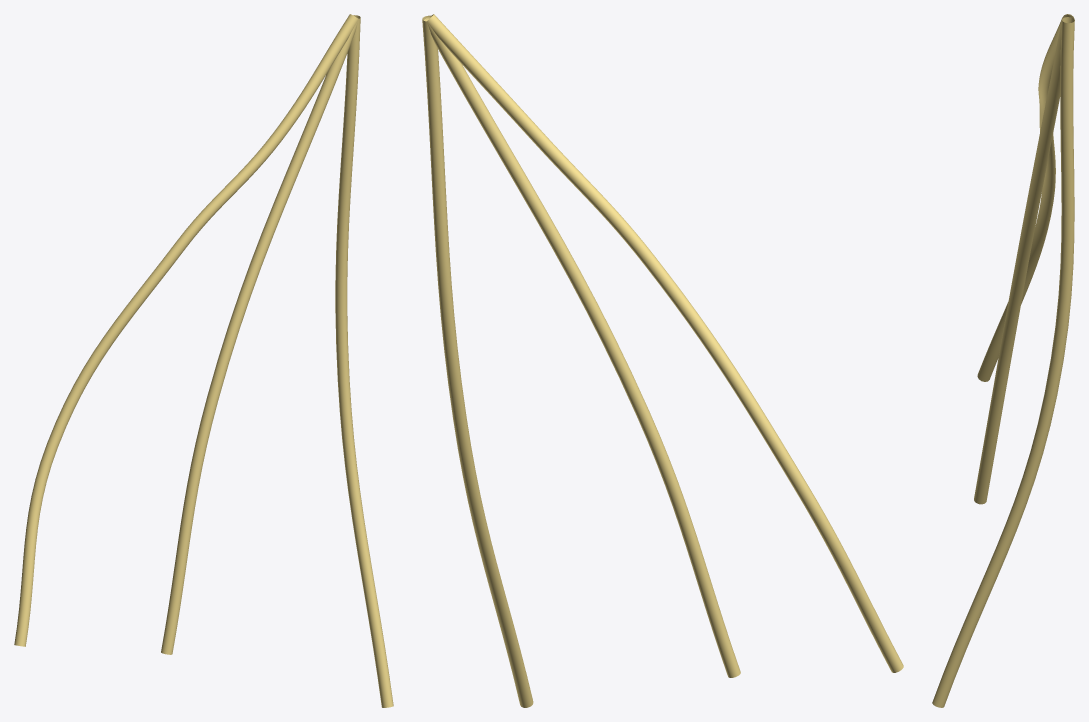
The picture shows the model from 3 angles, left to right: view 1: azimuth 30°, elevation 25°; view 2: azimuth 150°, elevation 25°; view 3: azimuth 270°, elevation 25°; orthographic projection. The views are drawn at different scales.
Parts seen in each view (by area): view 1: ZA_f330157c91bf3507; view 2: ZA_f330157c91bf3507; view 3: ZA_f330157c91bf3507.
Part boxes in pixels (left/top/right/bottom): ZA_f330157c91bf3507: left=14, top=14, right=393, bottom=707; ZA_f330157c91bf3507: left=422, top=14, right=903, bottom=707; ZA_f330157c91bf3507: left=932, top=14, right=1074, bottom=707.
Size of the model in its own units: 0.0369 by 0.0593 by 0.0109.
